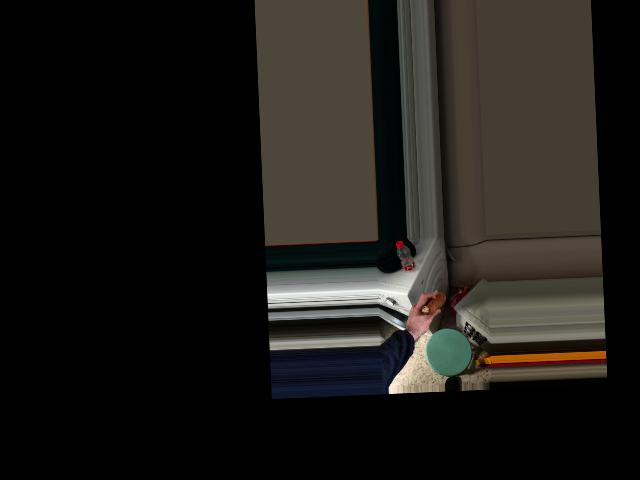sweet_potato: (418, 289, 445, 318)
